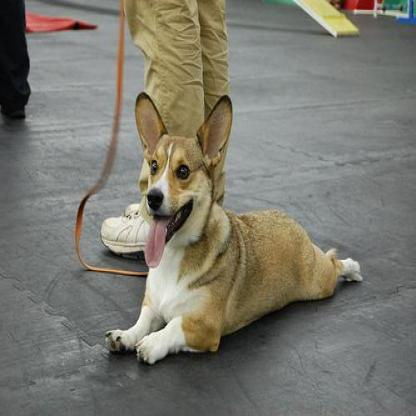Cardigan: (102, 90, 361, 368)
